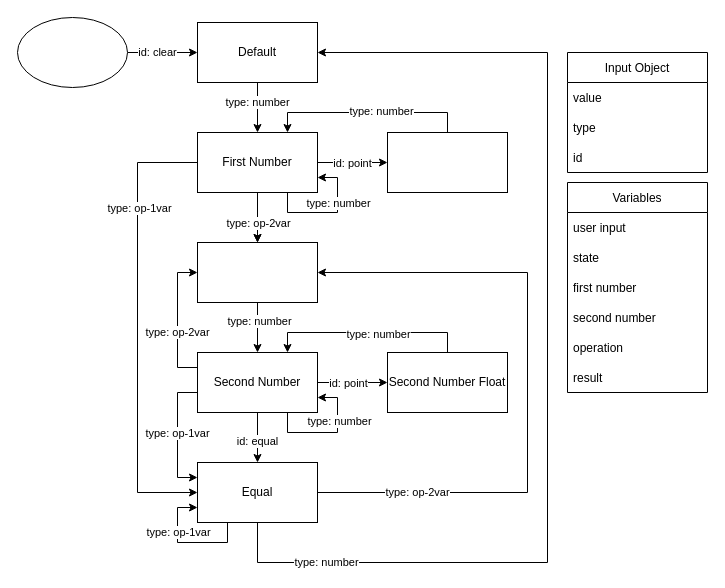
The diagram is 725 pixels wide and 588 high, and some of its shapes have lost their labels. The shapes that lost their labels are listed below. From the top down, each one's centre as x and y in pixels, then its label:
the point at 72,52: Clear
the point at 447,162: First Number Float
the point at 257,272: Operation (two var)
